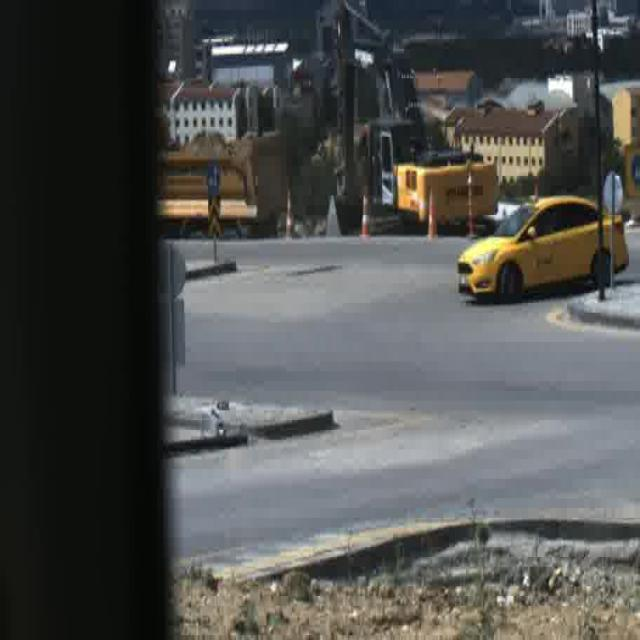Car: (454, 194, 627, 304)
